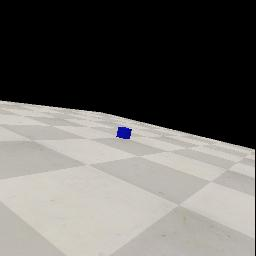box: (116, 127, 132, 139)
